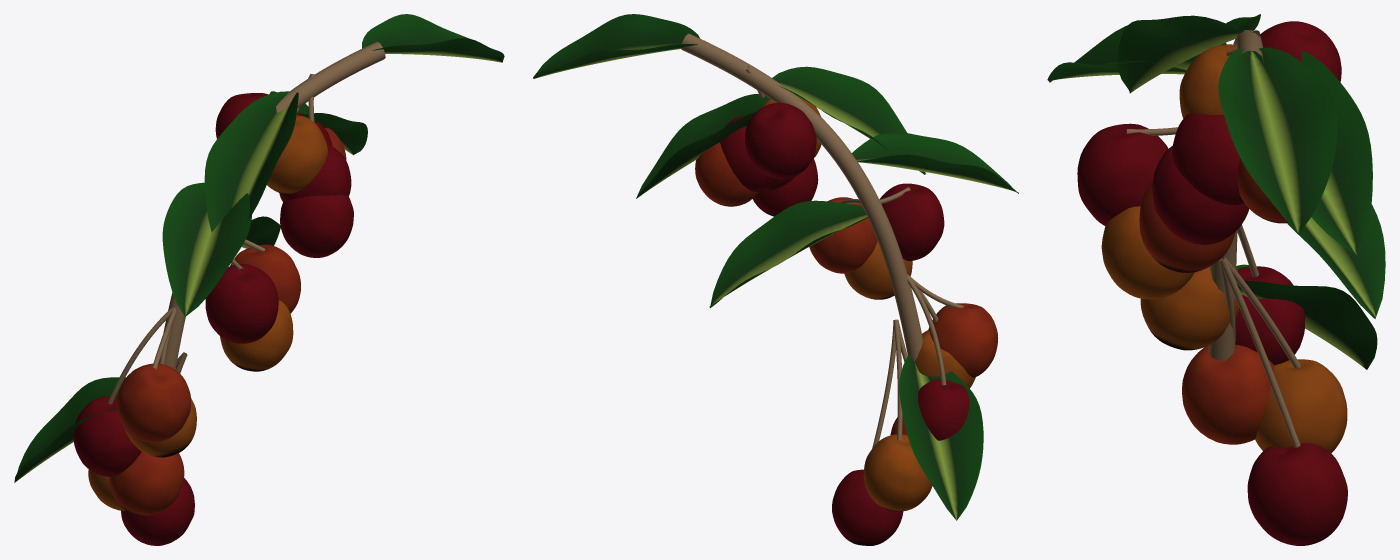
Rendered from branch.glb.
3 views of the same model, side by side, from view 1: azimuth 30°, elevation 25°; view 2: azimuth 150°, elevation 25°; view 3: azimuth 270°, elevation 25° (orthographic). The views are drawn at different scales.
Parts seen in each view (by area): view 1: hoja.003, hoja.001, cereza.012, cereza.003, cereza.011, hoja.004, cereza.014, cereza, hoja.005, rama, cereza.009, cereza.002 (+9 smaller); view 2: rama, hoja.005, hoja, hoja.003, hoja.004, hoja.001, cereza.006, hoja.002, cereza.001, cereza.003, cereza.012, cereza.002 (+10 smaller); view 3: hoja.004, cereza.002, cereza, hoja.002, cereza.003, cereza.001, hoja.003, hoja.005, cereza.013, cereza.010, cereza.011, cereza.005 (+11 smaller).
Boxes of the visible parts, <box> form: hoja.003: <box>204,91,298,232</box>; hoja.001: <box>162,182,251,316</box>; cereza.012: <box>117,363,190,442</box>; cereza.003: <box>205,264,278,343</box>; cereza.011: <box>280,194,353,257</box>; hoja.004: <box>362,14,504,62</box>; cereza.014: <box>73,396,141,476</box>; cereza: <box>109,451,184,515</box>; hoja.005: <box>14,377,125,482</box>; rama: <box>158,41,385,369</box>; cereza.009: <box>267,115,327,194</box>; cereza.002: <box>121,478,194,545</box>; rama: <box>681,33,923,361</box>; hoja.005: <box>899,354,983,520</box>; hoja: <box>709,200,868,307</box>; hoja.003: <box>772,66,925,174</box>; hoja.004: <box>533,14,699,78</box>; hoja.001: <box>852,133,1018,193</box>; cereza.006: <box>745,103,816,178</box>; hoja.002: <box>636,94,770,198</box>; cereza.001: <box>863,434,932,511</box>; cereza.003: <box>879,183,944,260</box>; cereza.012: <box>928,303,998,377</box>; cereza.002: <box>832,469,903,545</box>; hoja.004: <box>1218,47,1337,235</box>; cereza.002: <box>1247,443,1347,545</box>; cereza: <box>1182,345,1274,444</box>; hoja.002: <box>1301,50,1372,255</box>; cereza.003: <box>1077,123,1168,225</box>; cereza.001: <box>1255,359,1347,453</box>; hoja.003: <box>1117,14,1260,93</box>; hoja.005: <box>1236,264,1377,369</box>; cereza.013: <box>1140,266,1239,350</box>; cereza.010: <box>1172,113,1244,204</box>; cereza.011: <box>1152,146,1248,244</box>; cereza.005: <box>1101,206,1194,299</box>.
Bounding box in the file's own units: 2.5 × 2.36 × 1.16.
